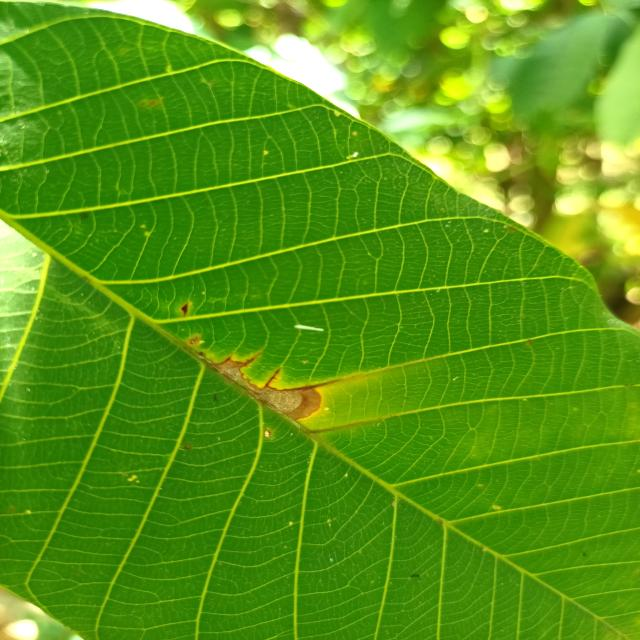Corynespora: (278, 380, 341, 392), (264, 368, 280, 388)
Leaf-Blight: (216, 361, 322, 420)
